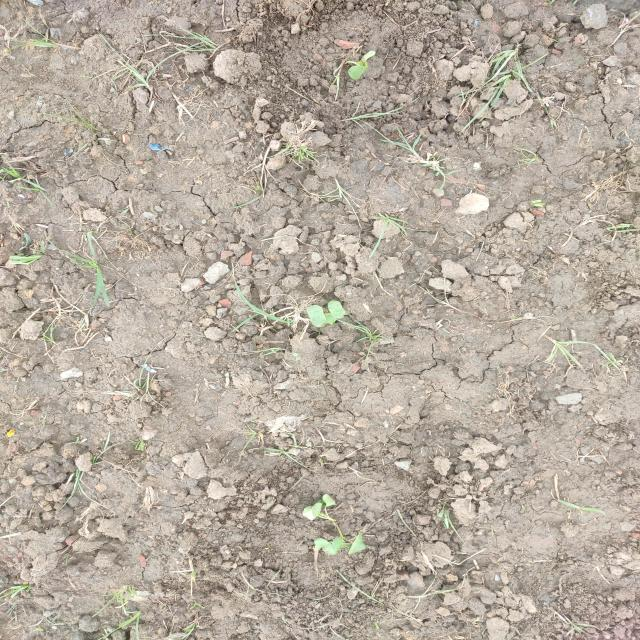seedling: (349, 532, 366, 555), (347, 61, 367, 80), (307, 305, 326, 325), (328, 300, 346, 319), (315, 538, 335, 555), (302, 503, 322, 520), (318, 494, 336, 506), (331, 539, 344, 552), (324, 313, 336, 325)
